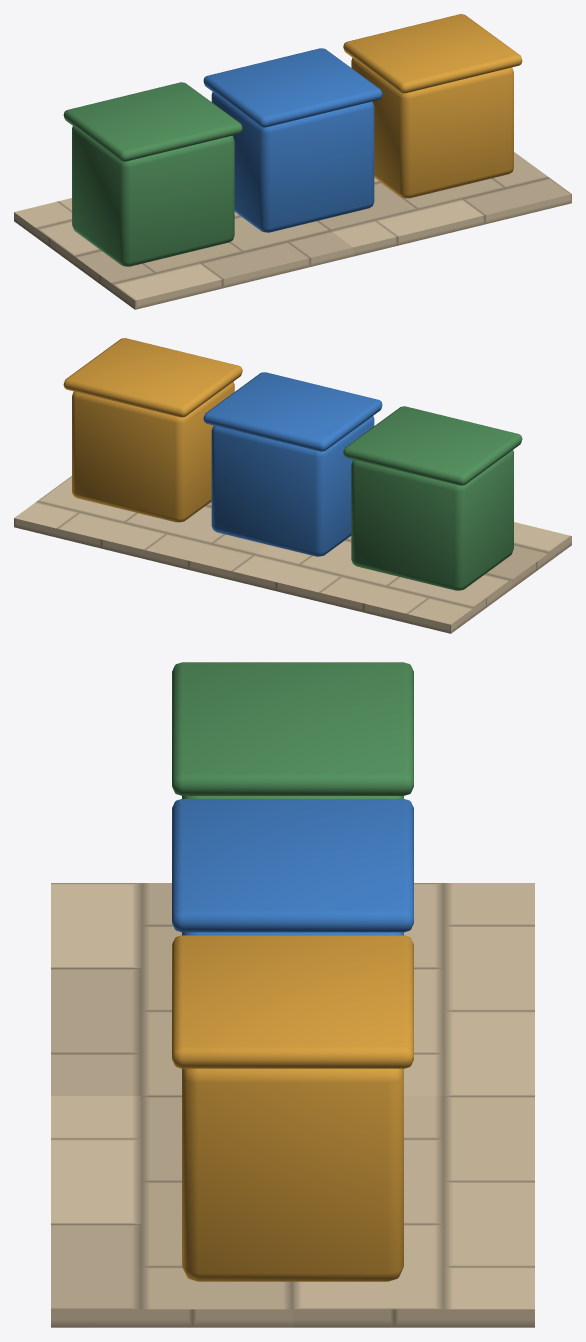
Rendered from dumpsters.gltf.
3 renders of one model, top to bottom at view 1: azimuth 30°, elevation 25°; view 2: azimuth 150°, elevation 25°; view 3: azimuth 270°, elevation 25°, orthographic. The views are drawn at different scales.
Visible parts, largest first — view 1: dumpsters_mesh; view 2: dumpsters_mesh; view 3: dumpsters_mesh.
Part boxes in pixels (x1=…): dumpsters_mesh: x1=14, y1=14, x2=571, y2=309; dumpsters_mesh: x1=14, y1=338, x2=571, y2=633; dumpsters_mesh: x1=51, y1=662, x2=534, y2=1327.
Size of what is drawn, in the model's own units: 5 by 1.42 by 2.4.
Materials: 4 (1 with a texture image).
